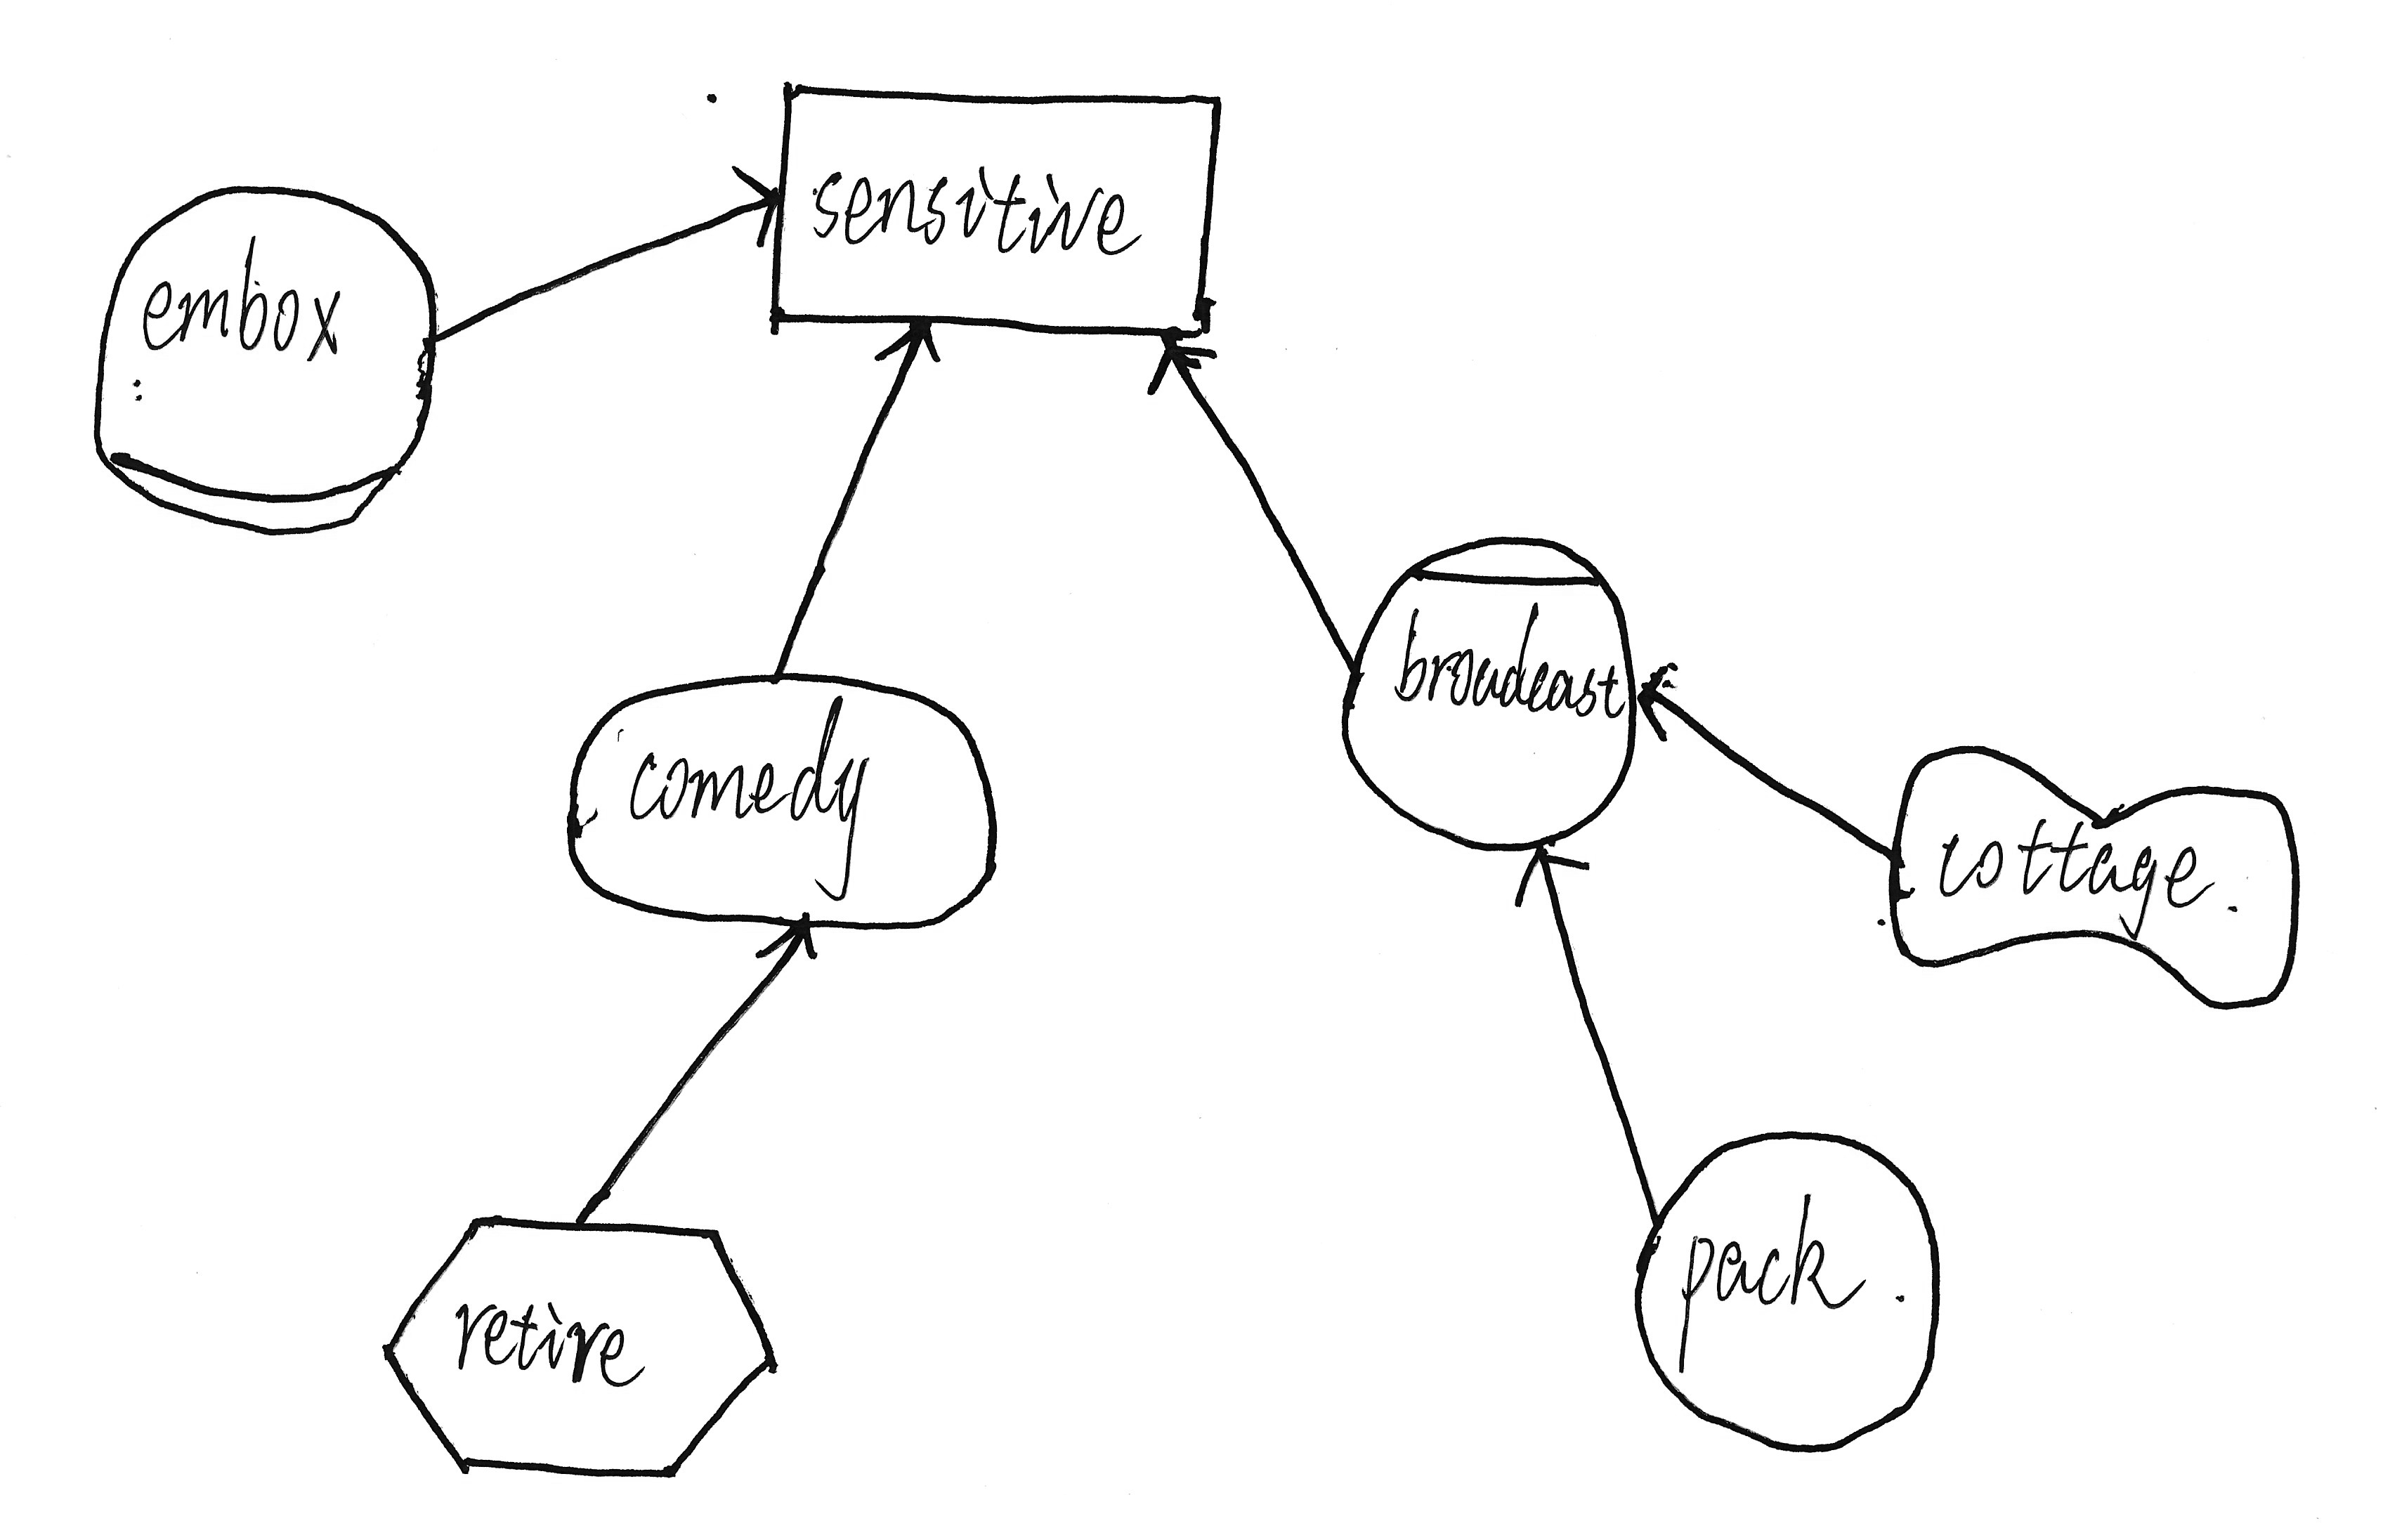actor: (1617, 1113, 1956, 1467)
agent: (1327, 517, 1657, 868)
arrow: (1500, 836, 1610, 922), (1125, 322, 1228, 401), (1630, 650, 1693, 768), (855, 310, 956, 382), (725, 150, 787, 265), (749, 908, 826, 972)
goal: (552, 657, 1016, 949)
quality: (1873, 725, 2312, 1026)
resource: (753, 59, 1239, 359)
role: (75, 165, 460, 550)
task: (366, 1193, 794, 1500)
